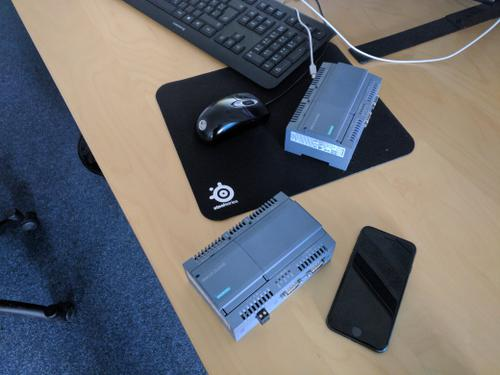device: (183, 192, 337, 342), (285, 63, 383, 171)
